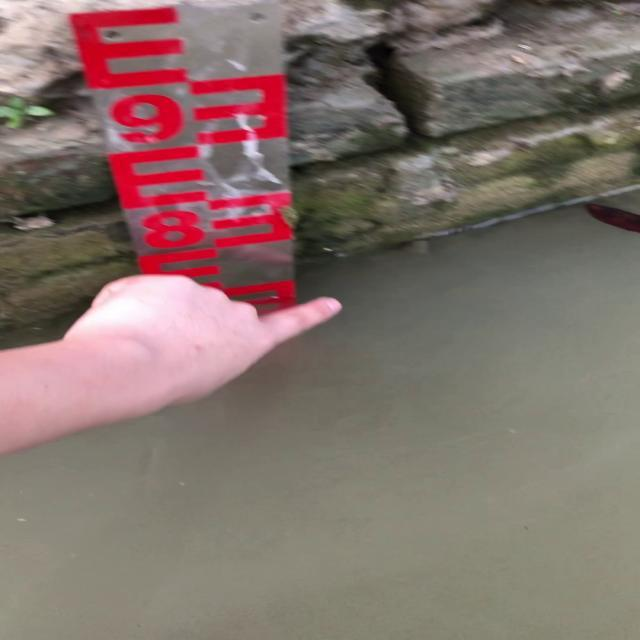ruler: (46, 0, 328, 362)
value: (94, 84, 196, 154), (124, 207, 217, 260)
